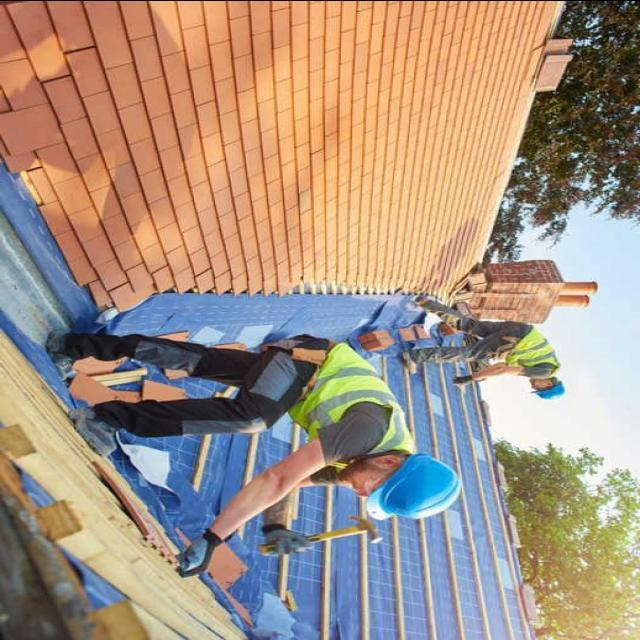helmet: (361, 446, 465, 525), (529, 376, 567, 406)
jacket: (293, 335, 435, 457), (499, 320, 563, 373)
